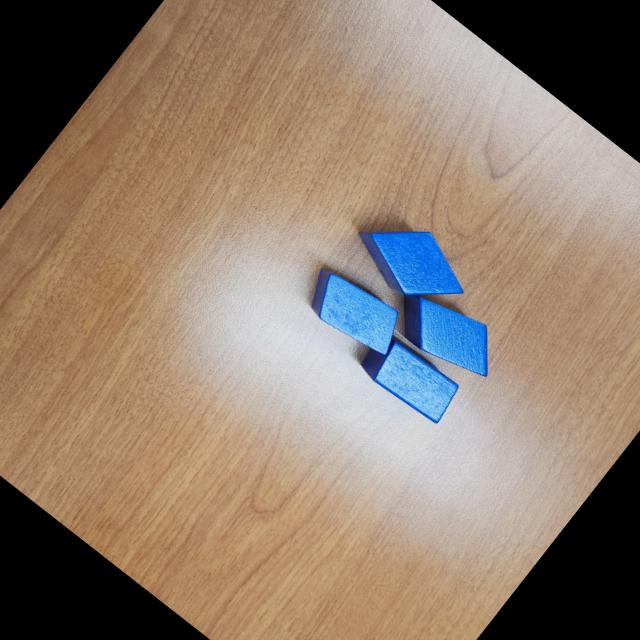blue: (343, 198, 480, 328), (383, 274, 512, 394), (296, 257, 412, 366), (355, 328, 466, 430)
